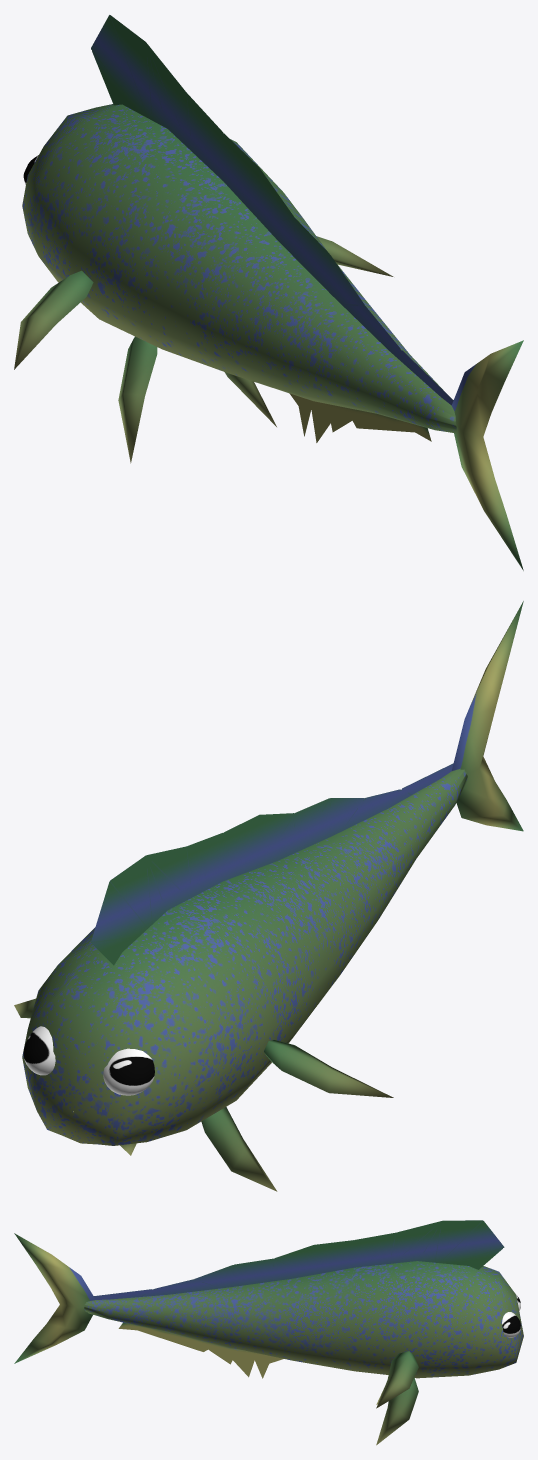
The model's file is pexe.obj.
The picture shows the model from 3 angles, top to bottom: view 1: azimuth 30°, elevation 25°; view 2: azimuth 150°, elevation 25°; view 3: azimuth 270°, elevation 25°; orthographic projection. The views are drawn at different scales.
Visible parts, largest first — view 1: Fish; view 2: Fish; view 3: Fish.
Part boxes in pixels (x1,y1,x2,y2): Fish: (14, 15, 523, 570); Fish: (14, 601, 523, 1191); Fish: (14, 1220, 523, 1445).
Size of the model in its own units: 1.98 by 1.8 by 4.06.
